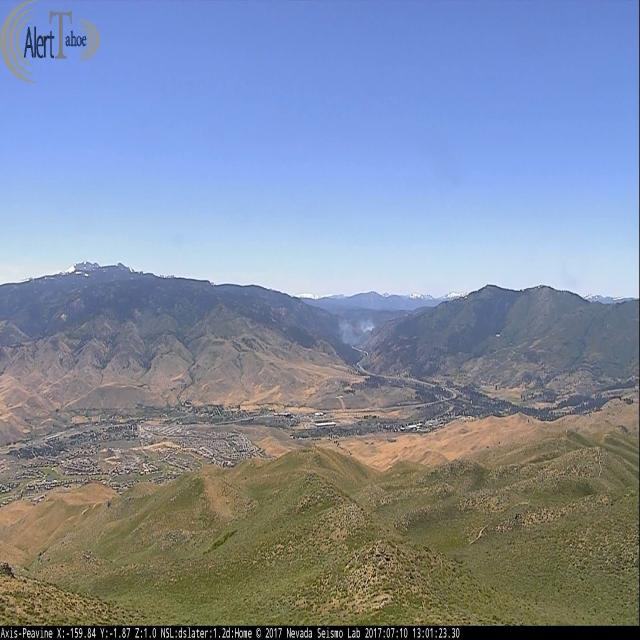smoke: (334, 313, 379, 347)
